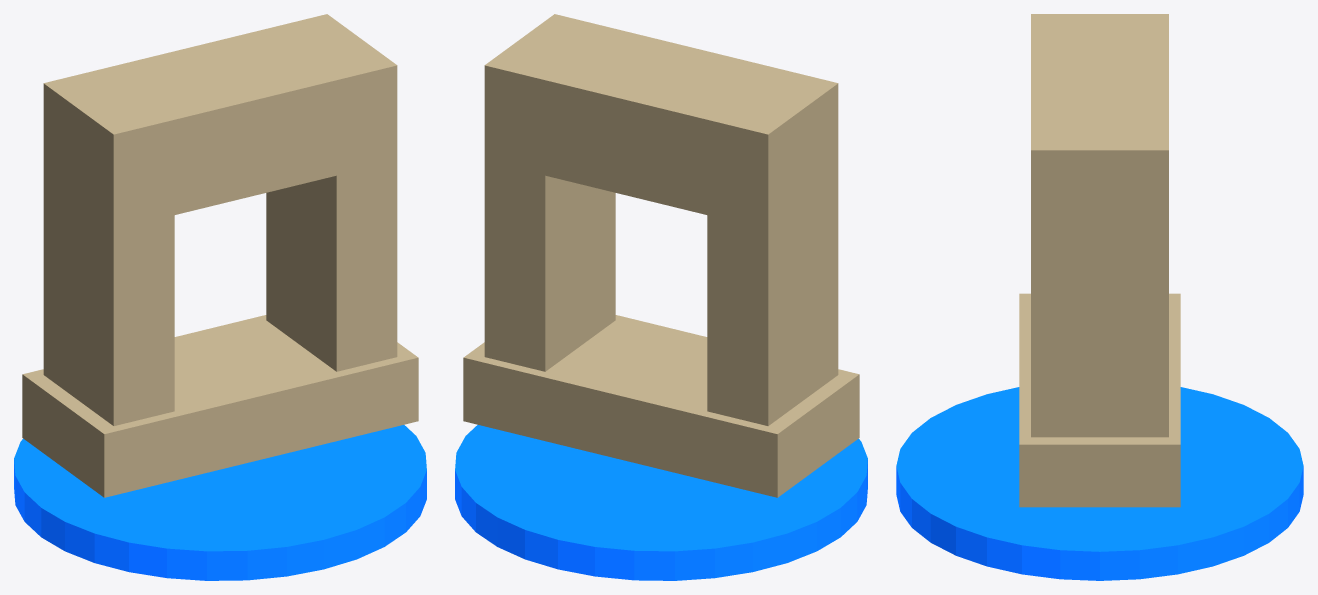
The model's file is french_arc_de_triomphe.dae.
3 views of the same model, side by side, from view 1: azimuth 30°, elevation 25°; view 2: azimuth 150°, elevation 25°; view 3: azimuth 270°, elevation 25° (orthographic).
Visible parts, largest first — view 1: 10_12_Popular_French_Arc_de_Triomphe_part_03, 10_12_Popular_French_Arc_de_Triomphe_ROOT_base, 10_12_Popular_French_Arc_de_Triomphe_part_04, 10_12_Popular_French_Arc_de_Triomphe_part_01, 10_12_Popular_French_Arc_de_Triomphe_part_02; view 2: 10_12_Popular_French_Arc_de_Triomphe_part_03, 10_12_Popular_French_Arc_de_Triomphe_ROOT_base, 10_12_Popular_French_Arc_de_Triomphe_part_04, 10_12_Popular_French_Arc_de_Triomphe_part_01, 10_12_Popular_French_Arc_de_Triomphe_part_02; view 3: 10_12_Popular_French_Arc_de_Triomphe_ROOT_base, 10_12_Popular_French_Arc_de_Triomphe_part_02, 10_12_Popular_French_Arc_de_Triomphe_part_03, 10_12_Popular_French_Arc_de_Triomphe_part_04.
Boxes of the visible parts, x1,y1,x2,y2 form: 10_12_Popular_French_Arc_de_Triomphe_part_03: (43,14,397,228); 10_12_Popular_French_Arc_de_Triomphe_ROOT_base: (14,425,426,580); 10_12_Popular_French_Arc_de_Triomphe_part_04: (22,315,418,497); 10_12_Popular_French_Arc_de_Triomphe_part_01: (43,142,174,425); 10_12_Popular_French_Arc_de_Triomphe_part_02: (266,124,397,371); 10_12_Popular_French_Arc_de_Triomphe_part_03: (484,14,838,227); 10_12_Popular_French_Arc_de_Triomphe_ROOT_base: (455,425,867,580); 10_12_Popular_French_Arc_de_Triomphe_part_04: (463,315,859,497); 10_12_Popular_French_Arc_de_Triomphe_part_01: (707,142,838,425); 10_12_Popular_French_Arc_de_Triomphe_part_02: (484,124,615,371); 10_12_Popular_French_Arc_de_Triomphe_ROOT_base: (896,387,1303,580); 10_12_Popular_French_Arc_de_Triomphe_part_02: (1031,207,1168,437); 10_12_Popular_French_Arc_de_Triomphe_part_03: (1031,14,1168,244); 10_12_Popular_French_Arc_de_Triomphe_part_04: (1019,293,1180,507).
Size of the model in its own units: 0.76 by 0.85 by 0.76.
